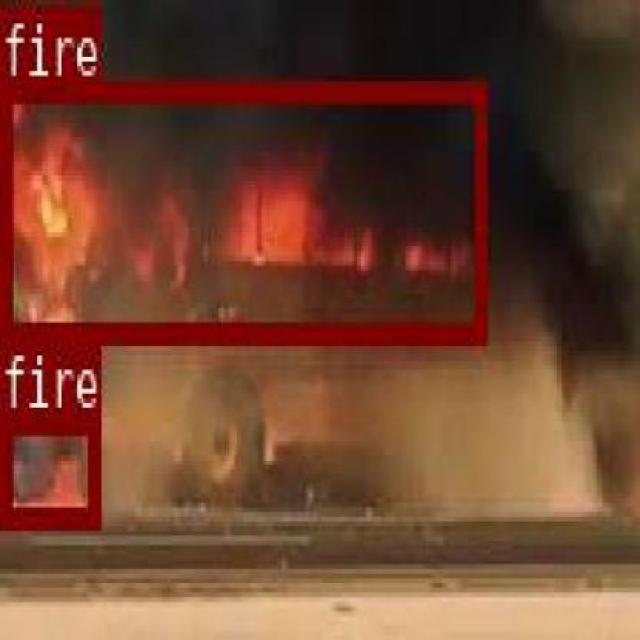fire: (0, 76, 485, 338), (0, 407, 98, 521)
